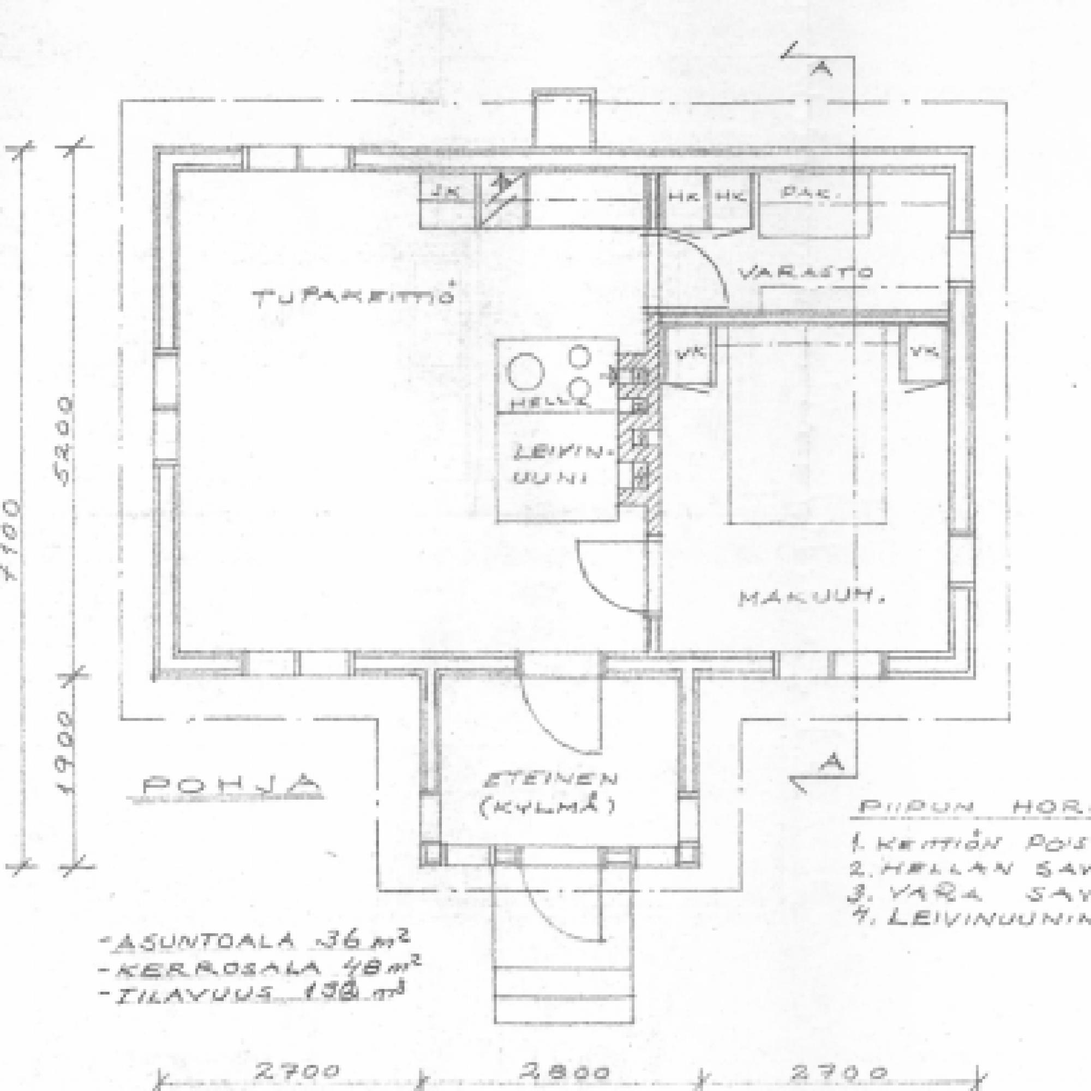wall: (153, 146, 976, 174), (949, 146, 976, 677), (153, 146, 178, 677), (676, 653, 976, 678), (646, 146, 660, 680), (153, 652, 444, 677), (419, 841, 700, 866), (444, 652, 676, 680), (419, 652, 444, 867), (676, 653, 700, 866), (645, 311, 976, 325), (619, 355, 648, 507)
